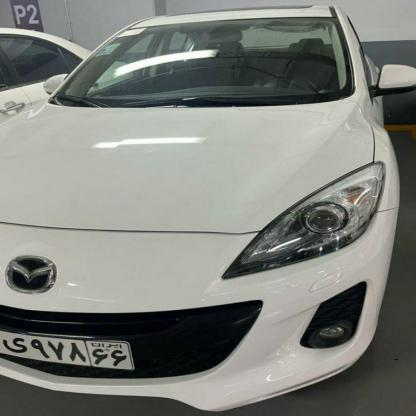Car: (0, 0, 416, 416), (0, 16, 113, 125)
